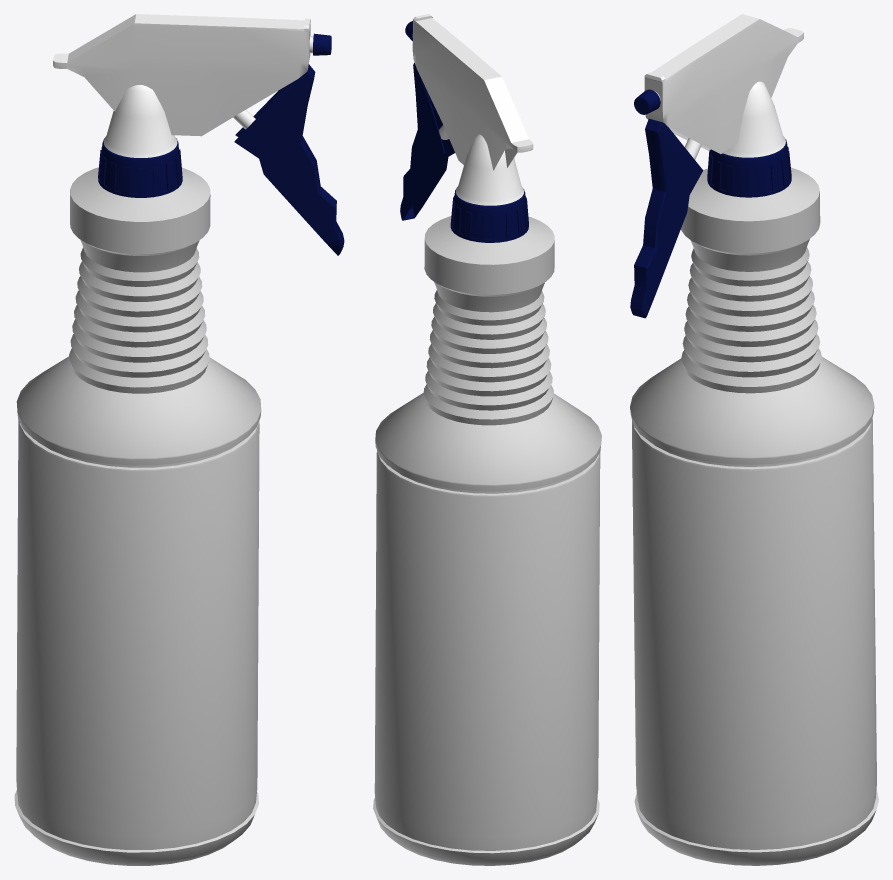
The model's file is Bottle.FBX.
The picture shows the model from 3 angles, left to right: view 1: azimuth 30°, elevation 25°; view 2: azimuth 150°, elevation 25°; view 3: azimuth 270°, elevation 25°; orthographic projection. The views are drawn at different scales.
Parts seen in each view (by area): view 1: Bottle, Nozzle; view 2: Bottle, Nozzle; view 3: Bottle, Nozzle.
Boxes of the visible parts, x1,y1,x2,y2 form: Bottle: (14,167,261,865); Nozzle: (53,14,344,255); Bottle: (373,216,601,865); Nozzle: (400,14,533,242); Bottle: (630,167,878,865); Nozzle: (630,14,803,318).
Bounding box in the file's own units: 23.85 × 71.87 × 20.11.
